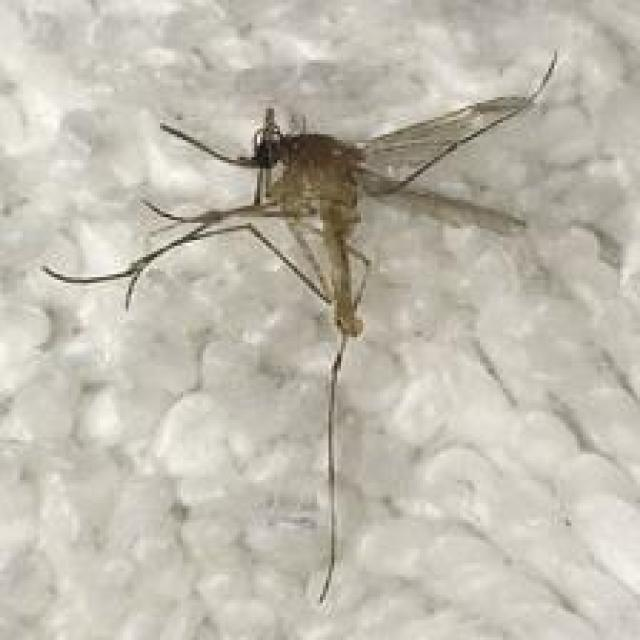Culex: (40, 47, 560, 604)
